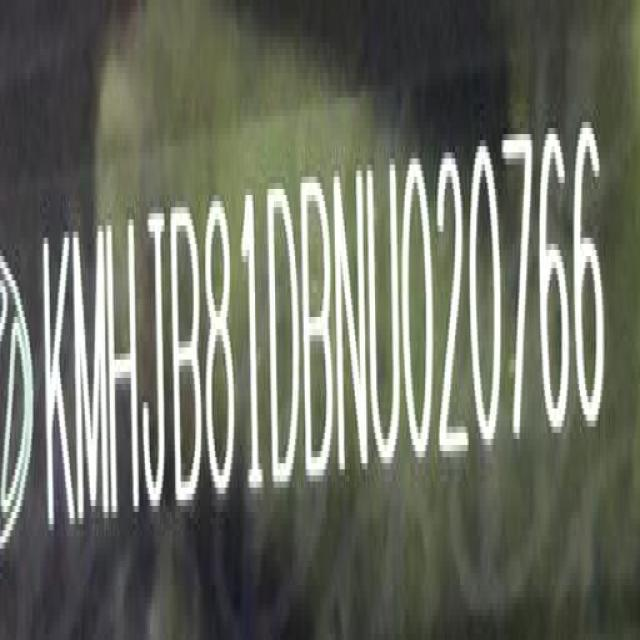0: (402, 149, 436, 471), (469, 136, 501, 454)
1: (240, 185, 260, 504)
2: (437, 147, 468, 465)
6: (539, 122, 573, 444), (575, 125, 607, 443)
7: (506, 125, 538, 452)
8: (205, 192, 237, 512)
B: (302, 170, 337, 489), (172, 197, 204, 514)
D: (266, 165, 301, 505)
H: (108, 209, 138, 526)
J: (142, 202, 170, 522)
K: (39, 224, 72, 544)
M: (72, 230, 110, 528)
N: (336, 158, 366, 478)
U: (365, 155, 405, 481)
